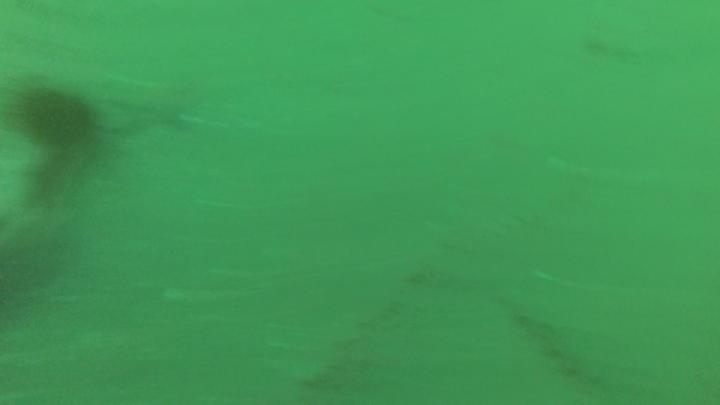echinus: (14, 79, 103, 154)
